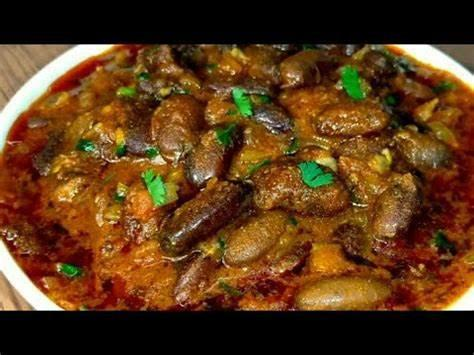RajmaCurry: (0, 39, 474, 313)
